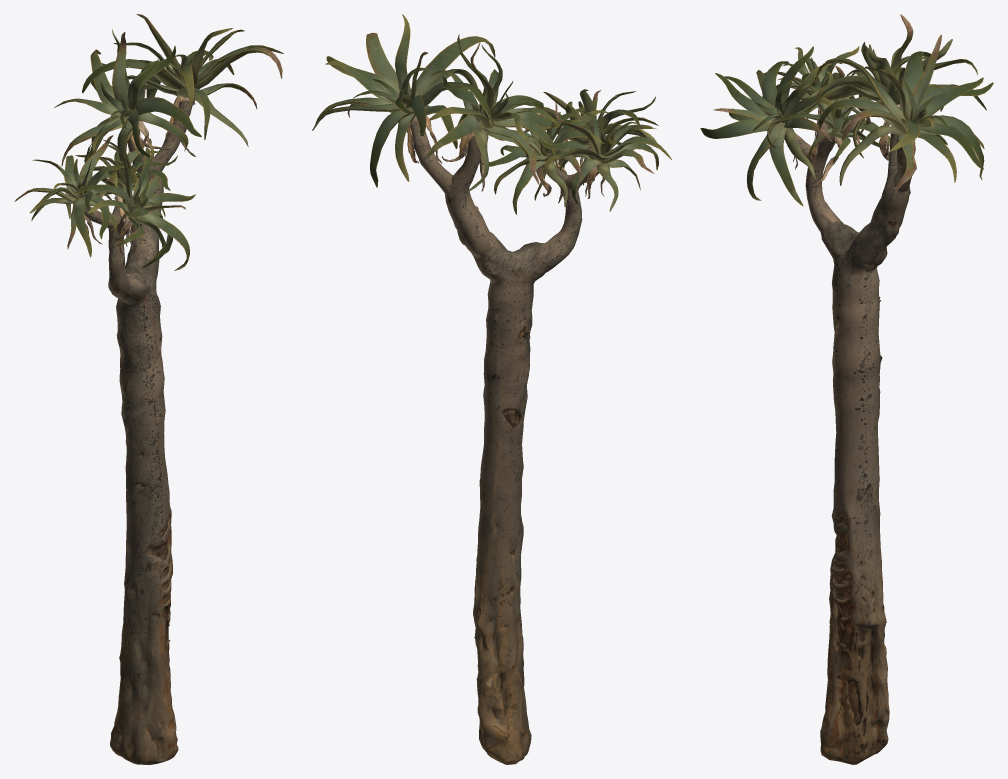
The model's file is quiver_tree_01.glb.
3 renders of one model, left to right at view 1: azimuth 30°, elevation 25°; view 2: azimuth 150°, elevation 25°; view 3: azimuth 270°, elevation 25°, orthographic. The views are drawn at different scales.
Visible parts, largest first — view 1: quiver_tree_01.001, quiver_tree_01; view 2: quiver_tree_01.001, quiver_tree_01; view 3: quiver_tree_01.001, quiver_tree_01.
Boxes of the visible parts, x1=… form: quiver_tree_01.001: x1=76, y1=100, x2=192, y2=764; quiver_tree_01: x1=14, y1=14, x2=283, y2=270; quiver_tree_01.001: x1=410, y1=119, x2=600, y2=764; quiver_tree_01: x1=312, y1=14, x2=671, y2=214; quiver_tree_01.001: x1=784, y1=110, x2=911, y2=764; quiver_tree_01: x1=700, y1=14, x2=993, y2=206.
Bounding box in the file's own units: 1.18 × 2.72 × 0.97.
Materials: 2 (2 with a texture image).
